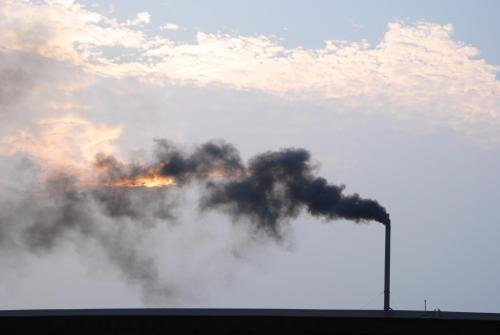smoke: (172, 146, 387, 233)
